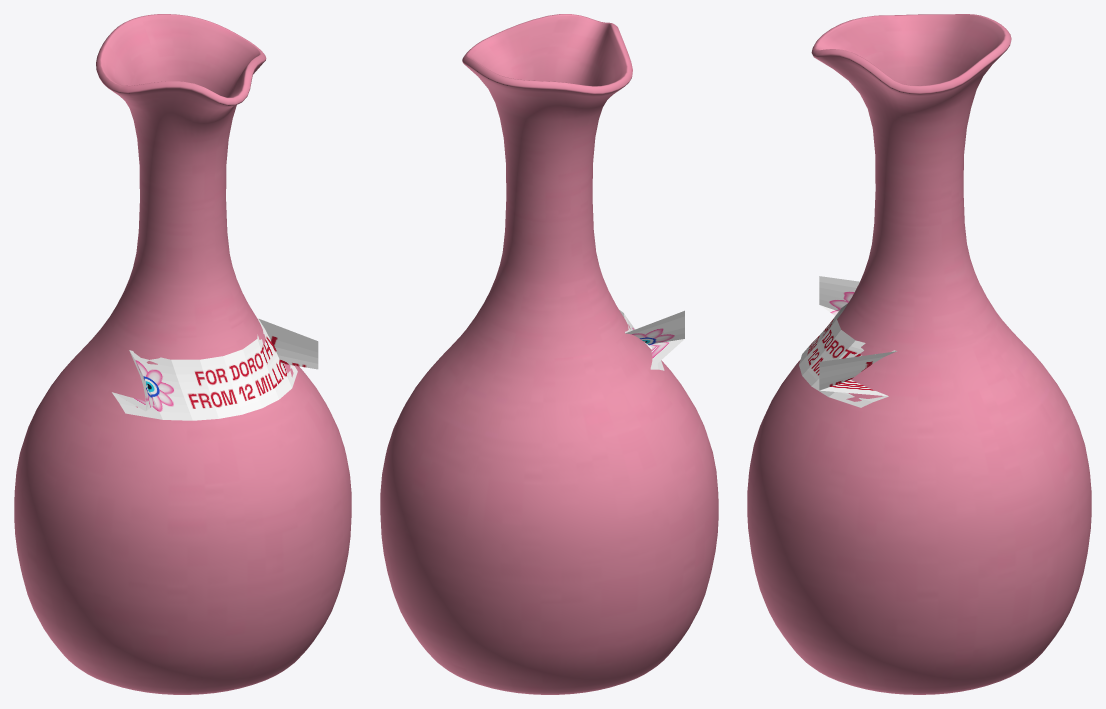
Rendered from nyb_tootsie_vase.glb.
The picture shows the model from 3 angles, left to right: view 1: azimuth 30°, elevation 25°; view 2: azimuth 150°, elevation 25°; view 3: azimuth 270°, elevation 25°; orthographic projection. The views are drawn at different scales.
Parts seen in each view (by area): view 1: ceramic_vase_01, stk_lbl_6b60c24d1c.png; view 2: ceramic_vase_01, stk_lbl_6b60c24d1c.png; view 3: ceramic_vase_01, stk_lbl_6b60c24d1c.png.
Part boxes in pixels (x1,y1,x2,y2): ceramic_vase_01: (14, 14, 351, 694); stk_lbl_6b60c24d1c.png: (112, 318, 318, 420); ceramic_vase_01: (380, 14, 718, 694); stk_lbl_6b60c24d1c.png: (619, 310, 684, 370); ceramic_vase_01: (747, 14, 1091, 694); stk_lbl_6b60c24d1c.png: (799, 276, 897, 407).
Size of the model in its own units: 0.2036 by 0.4003 by 0.2036.
Materials: 2 (2 with a texture image).
